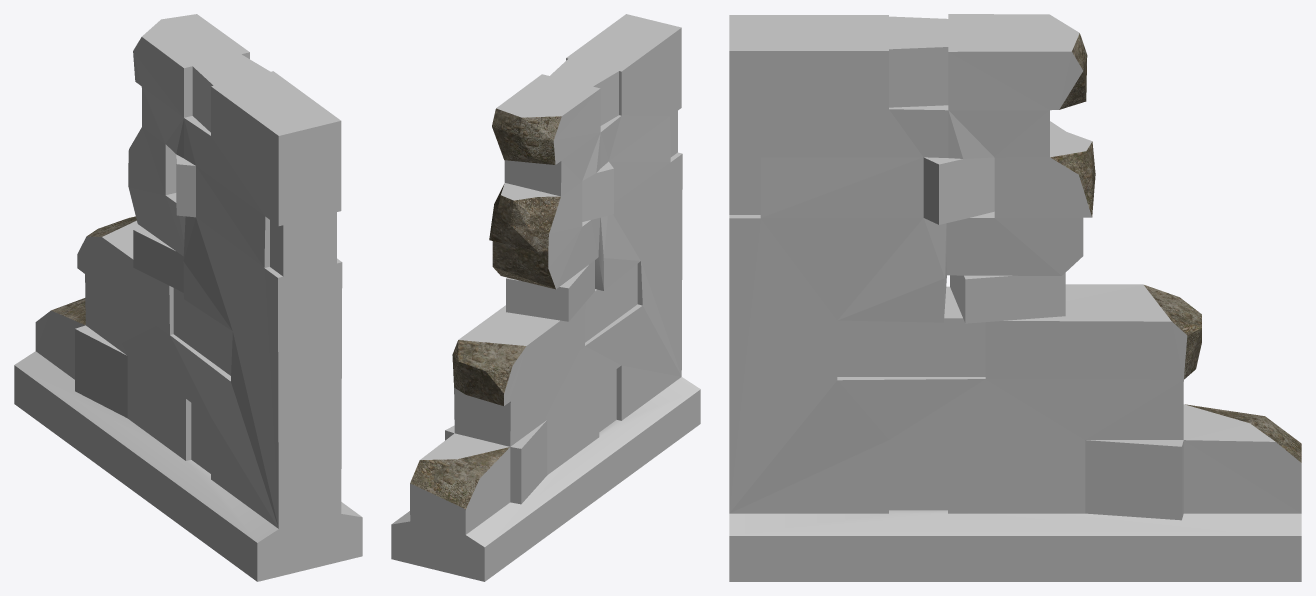
Rendered from bg_lut_lutomb_wall05d_sm_old.FBX.
3 views of the same model, side by side, from view 1: azimuth 30°, elevation 25°; view 2: azimuth 150°, elevation 25°; view 3: azimuth 270°, elevation 25° (orthographic). The views are drawn at different scales.
Parts seen in each view (by area): view 1: bg_lut_lutomb_wall05d_sm_old; view 2: bg_lut_lutomb_wall05d_sm_old; view 3: bg_lut_lutomb_wall05d_sm_old.
Part boxes in pixels (x1=…): bg_lut_lutomb_wall05d_sm_old: x1=14, y1=14, x2=362, y2=581; bg_lut_lutomb_wall05d_sm_old: x1=391, y1=14, x2=700, y2=581; bg_lut_lutomb_wall05d_sm_old: x1=729, y1=14, x2=1301, y2=581.
Bounding box in the file's own units: 64 × 256 × 256.
